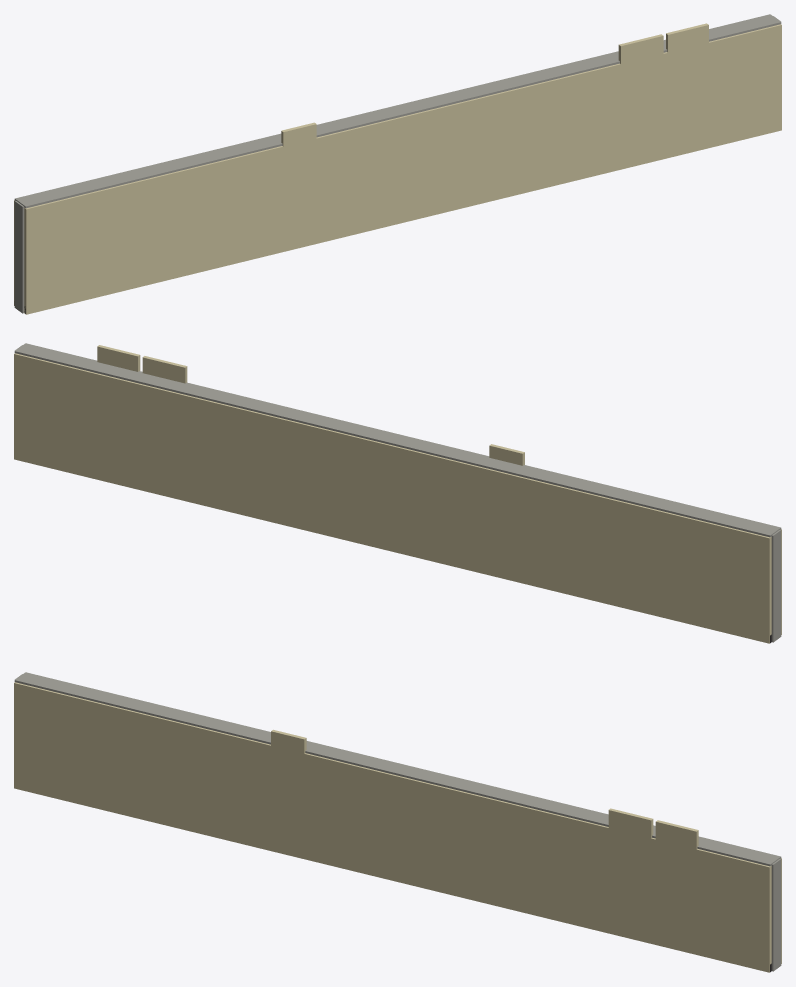
File: casino_wall_ew.glb
3 views of the same model, one above another, from view 1: azimuth 30°, elevation 25°; view 2: azimuth 150°, elevation 25°; view 3: azimuth 330°, elevation 25° (orthographic).
Parts seen in each view (by area): view 1: dry_face, cut, stud_0, rag_0, rag_1, rag_2; view 2: dry_back, cut, stud_0, rag_0, rag_1, rag_2; view 3: dry_face, cut, stud_20, rag_0, rag_1, rag_2.
Boxes of the visible parts, x1,y1,x2,y2 form: dry_face: (24,24,781,314); cut: (14,14,781,208); stud_0: (14,200,24,313); rag_0: (618,34,663,68); rag_1: (666,23,708,55); rag_2: (281,122,316,147); dry_back: (14,353,771,643); cut: (14,343,781,537); stud_0: (771,529,781,642); rag_0: (142,356,187,383); rag_1: (97,345,140,371); rag_2: (489,444,524,465); dry_face: (14,682,771,972); cut: (14,672,781,866); stud_20: (771,858,781,971); rag_0: (608,808,653,841); rag_1: (655,820,698,849); rag_2: (271,729,306,754).
Size of the model in its own units: 12.05 by 1.87 by 0.34.
